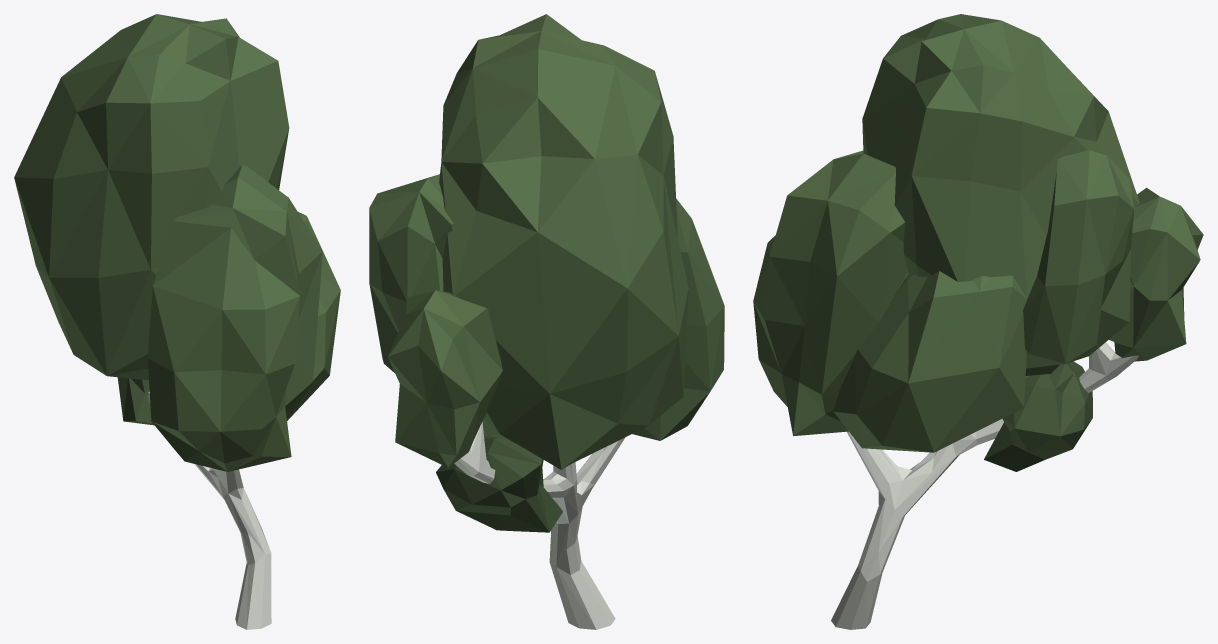
File: BirchTree_1.lod1.glb
3 views of the same model, side by side, from view 1: azimuth 30°, elevation 25°; view 2: azimuth 150°, elevation 25°; view 3: azimuth 270°, elevation 25° (orthographic). The views are drawn at different scales.
Visible parts, largest first — view 1: BirchTree_1; view 2: BirchTree_1; view 3: BirchTree_1.
Part boxes in pixels (x1,y1,x2,y2): BirchTree_1: (14,14,340,629); BirchTree_1: (369,14,724,629); BirchTree_1: (753,14,1203,629).
Bounding box in the file's own units: 1.7 × 3.57 × 2.48.
